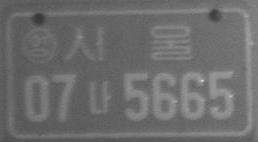0: (23, 74, 50, 123)
5: (207, 69, 234, 121), (122, 71, 149, 121)
6: (149, 71, 179, 122), (178, 70, 206, 122)
7: (50, 73, 77, 122)
나: (88, 78, 113, 115)
서울_D: (63, 24, 194, 61)
영: (20, 26, 58, 66)
